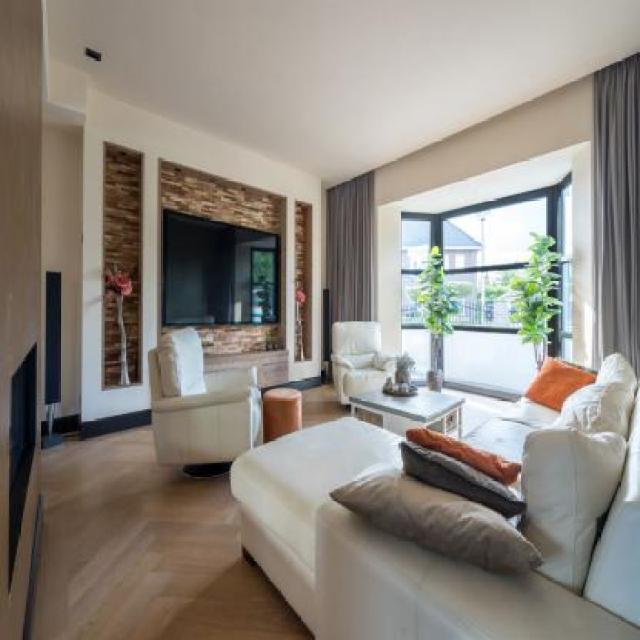floor: (30, 421, 315, 640)
